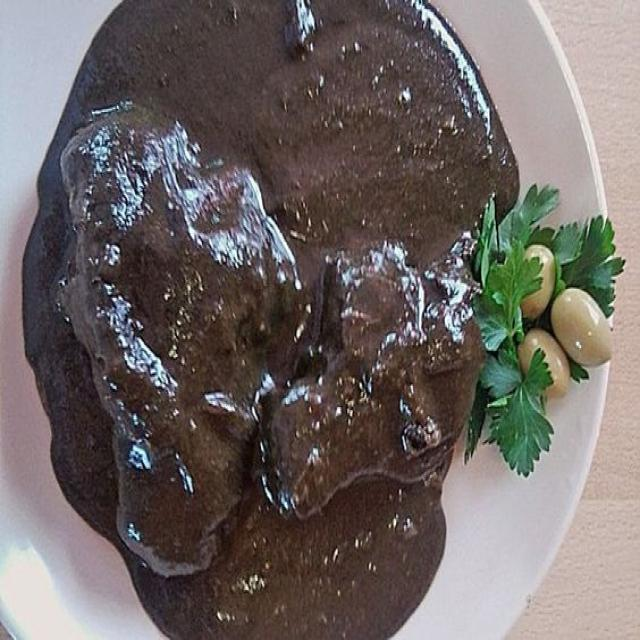Melloukhia: (16, 0, 614, 640)
